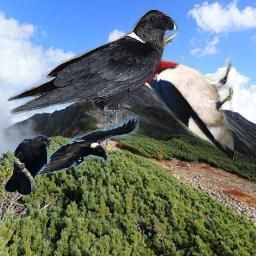Crow: (3, 9, 180, 135), (36, 115, 139, 175), (4, 135, 53, 196)
Woodpecker: (127, 33, 234, 160)
